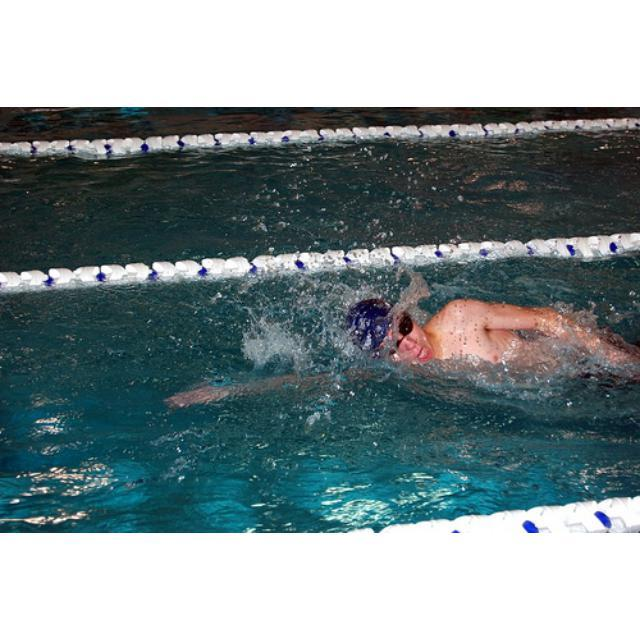human: (345, 295, 639, 394)
